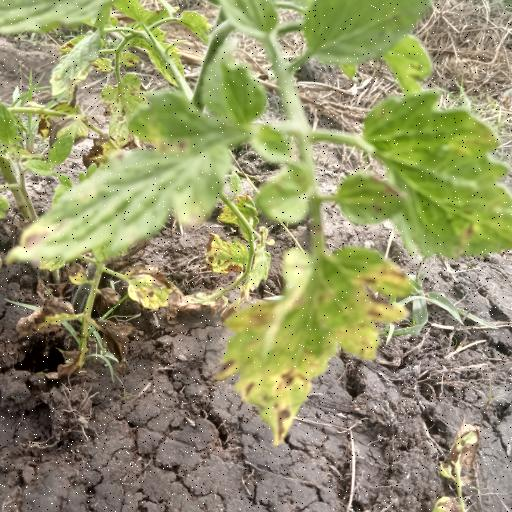Tomato_Brown_Spots: (4, 62, 279, 276), (212, 242, 430, 451), (355, 87, 512, 269)
